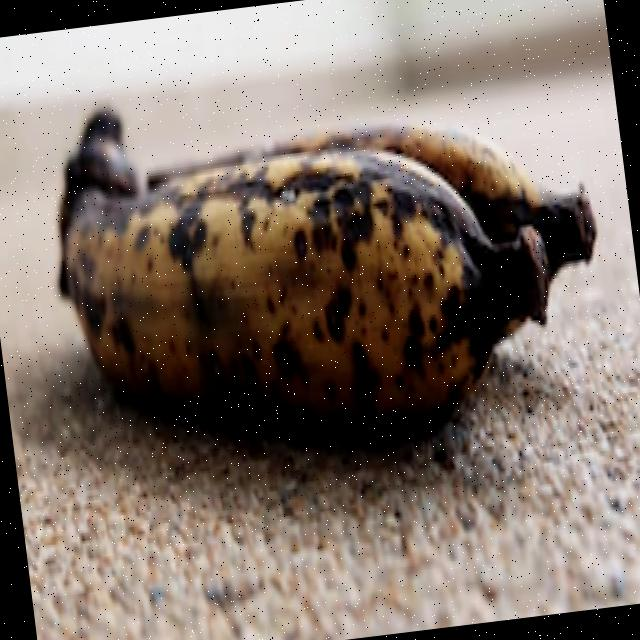Rotten: (35, 28, 626, 463)
